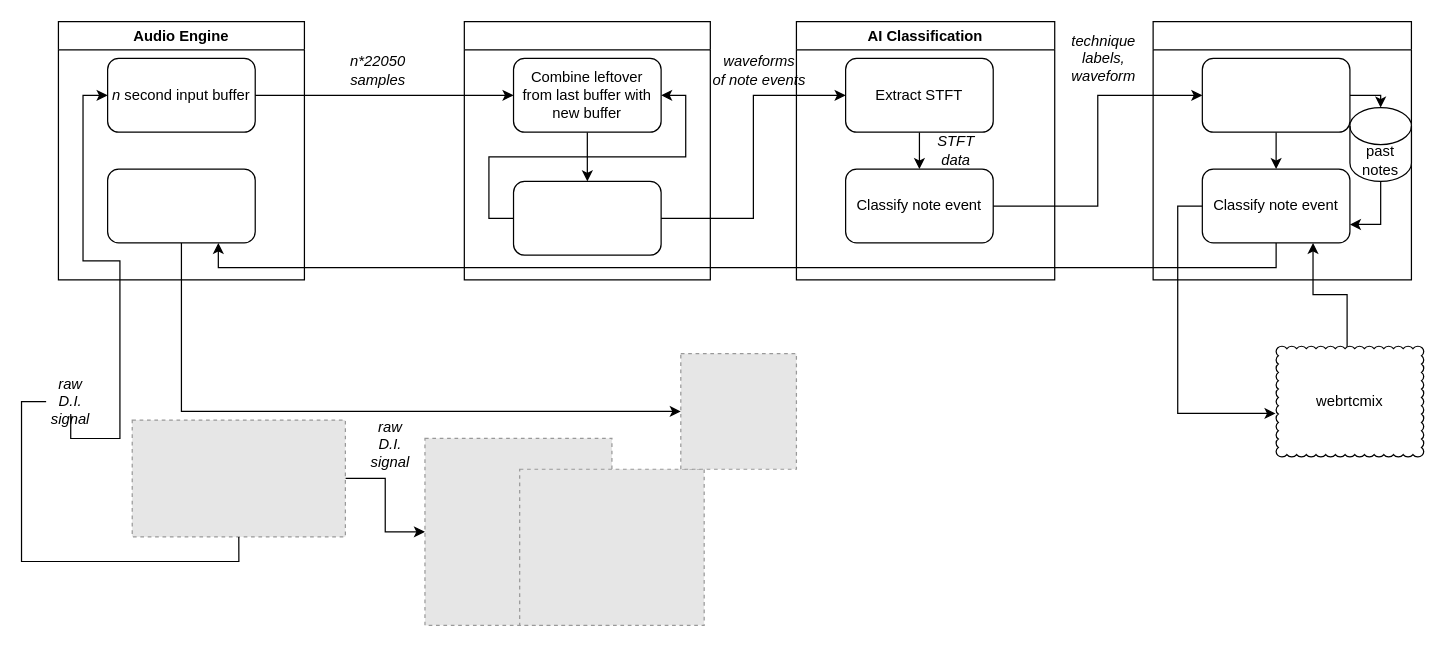
The diagram is 1445 pixels wide and 647 high, and some of its shapes have lost their labels. Grey dashed boxes stand in for pictures. The shapes that lost their labels are listed below. From the top down, each one's box as (x1, y1, x2, y2) in pixels, then its label:
(1201, 57, 1350, 132): Parse new note information
(463, 20, 710, 280): Note Preparation
(1152, 20, 1411, 280): Improv Brain
(106, 168, 255, 243): Playback of sound file info
(512, 180, 661, 255): Split buffer by note event onsets
